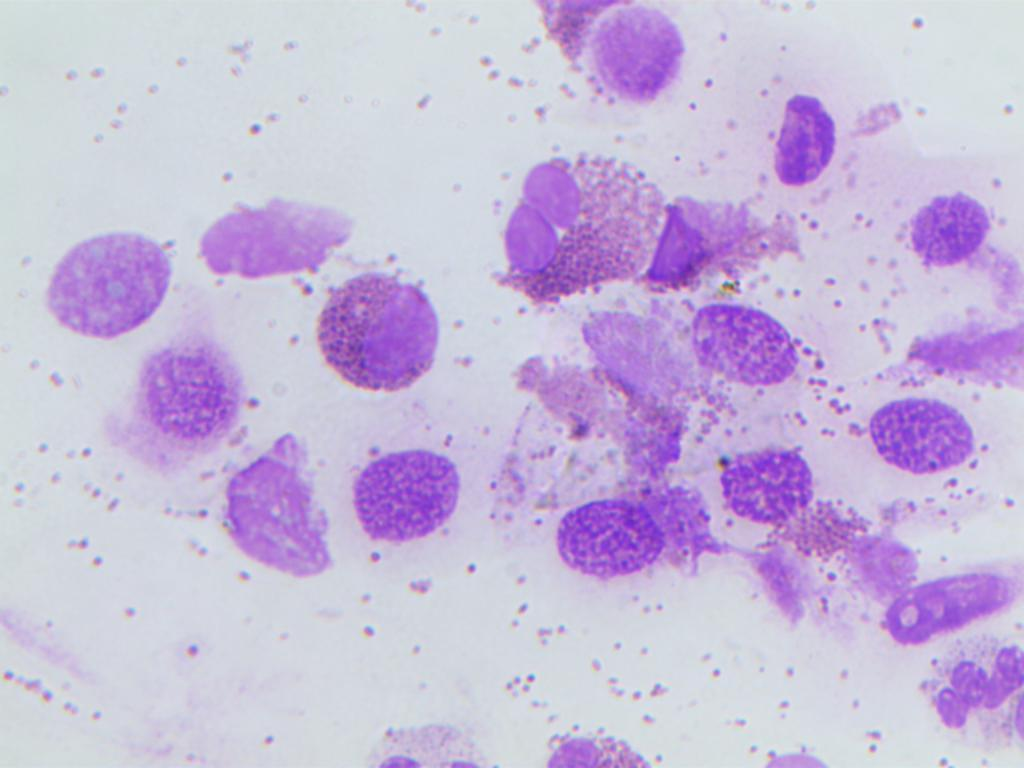artifact: (191, 182, 362, 286), (221, 432, 334, 580)
eosinophil: (491, 158, 668, 302), (526, 331, 697, 477), (717, 443, 858, 610), (528, 0, 696, 116), (313, 257, 442, 408), (644, 191, 815, 293), (519, 719, 669, 768)
epithelial: (103, 329, 243, 476), (724, 65, 861, 204), (336, 419, 476, 545), (27, 221, 177, 335), (852, 550, 1021, 651), (676, 289, 809, 413), (555, 488, 721, 587), (848, 391, 1016, 484), (903, 182, 1001, 279)
neutrophil: (906, 647, 1024, 748), (377, 698, 486, 768)
